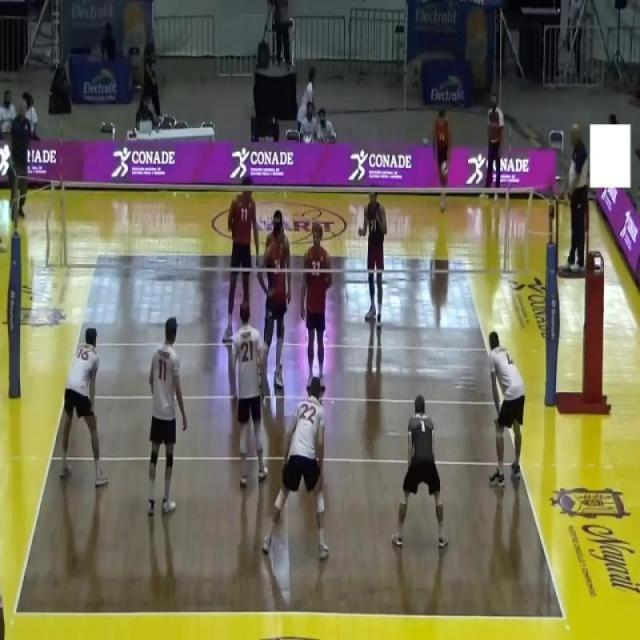volleyball: (441, 161, 448, 178), (422, 137, 429, 149)
